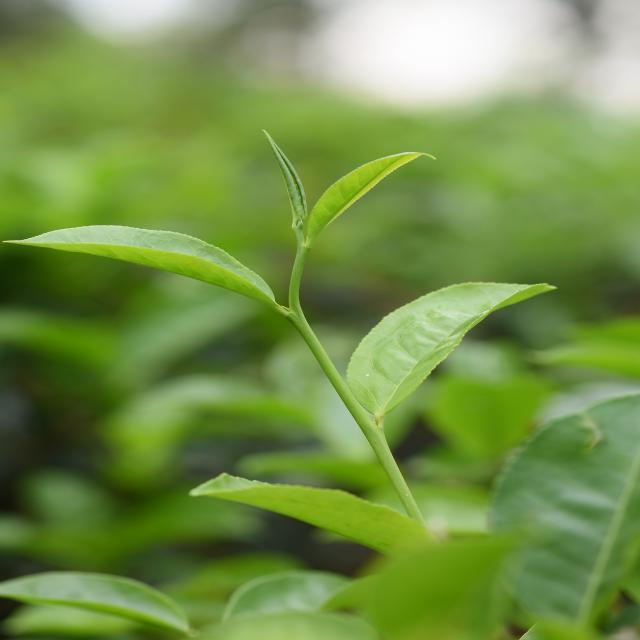Stem: (295, 247, 311, 264)
